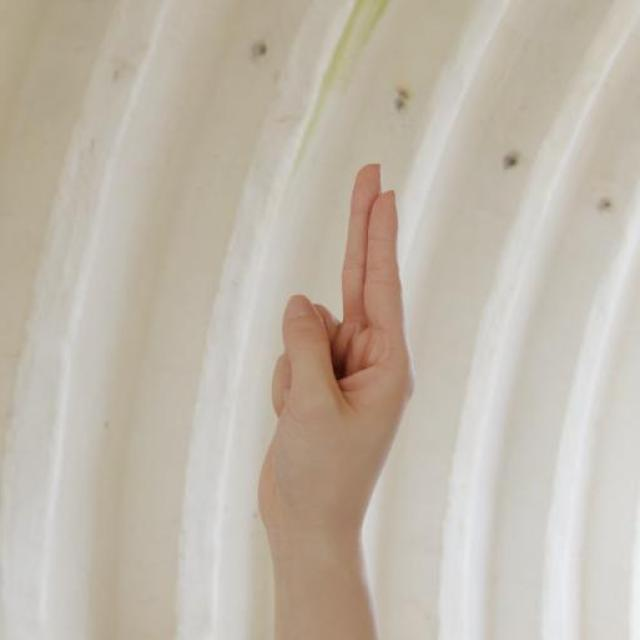U: (250, 160, 409, 574)
